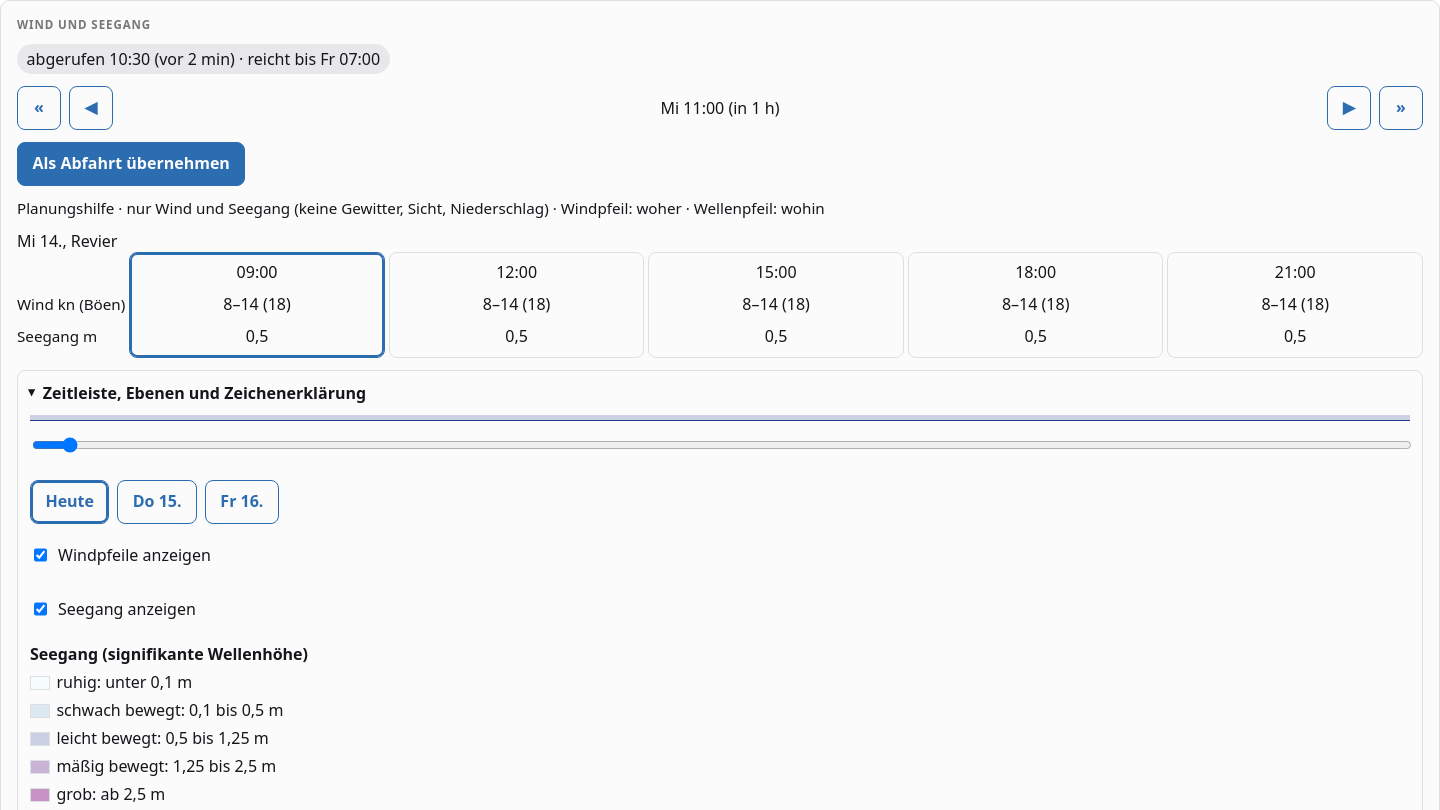
#1854 day strip, sea ribbon and area line › marks the window holding the hour; a column selects its first valid hour
Click the button "12:00 8–14 (18) 0,5". click: coordinates (517, 305)
box: [389,252,644,358]
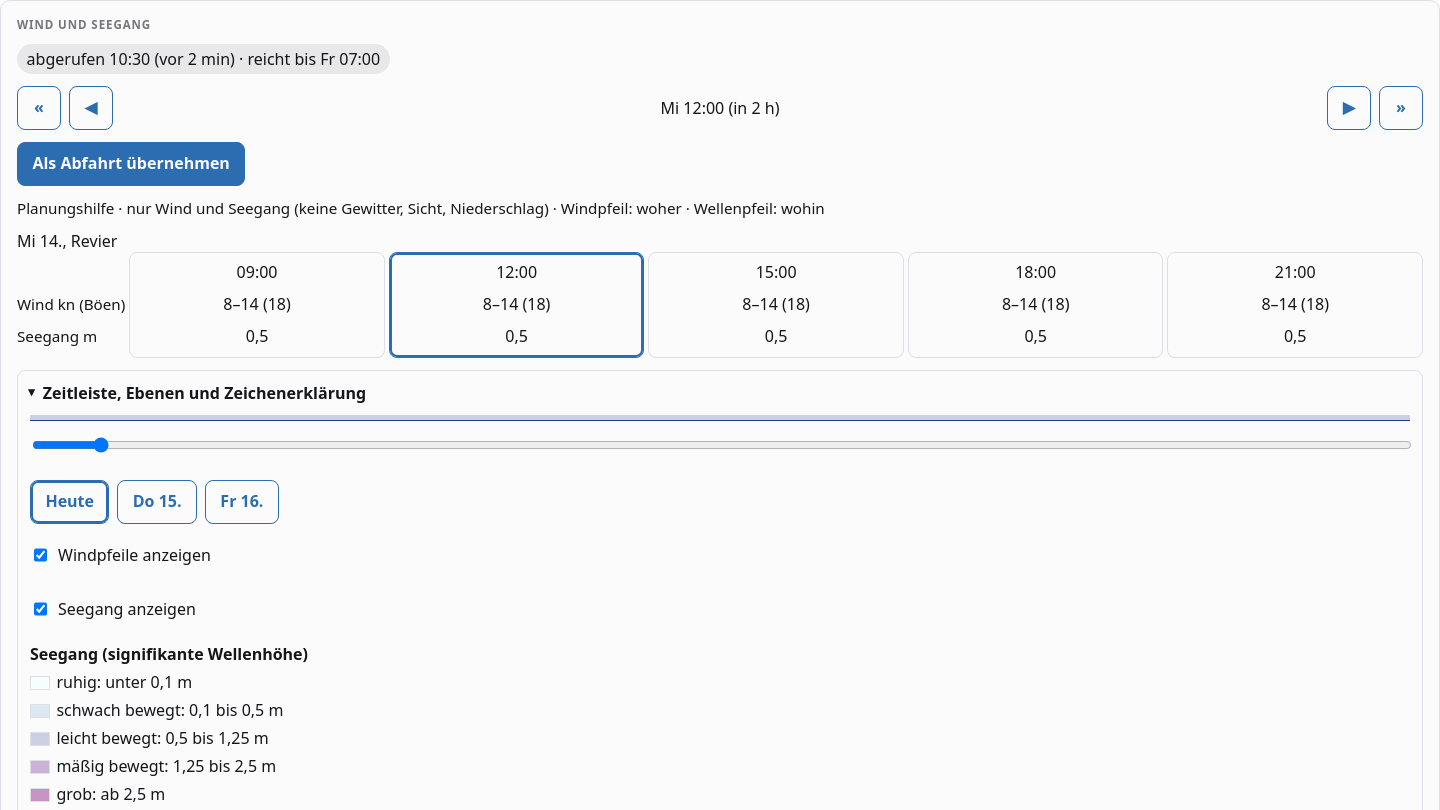
Result: the text with class "conditions-hour-value" shows "(in 2 h)" at [733,97,775,119]
Click the button "09:00 8–14 (18) 0,5". click: coordinates (257, 305)
box: [129,252,385,358]
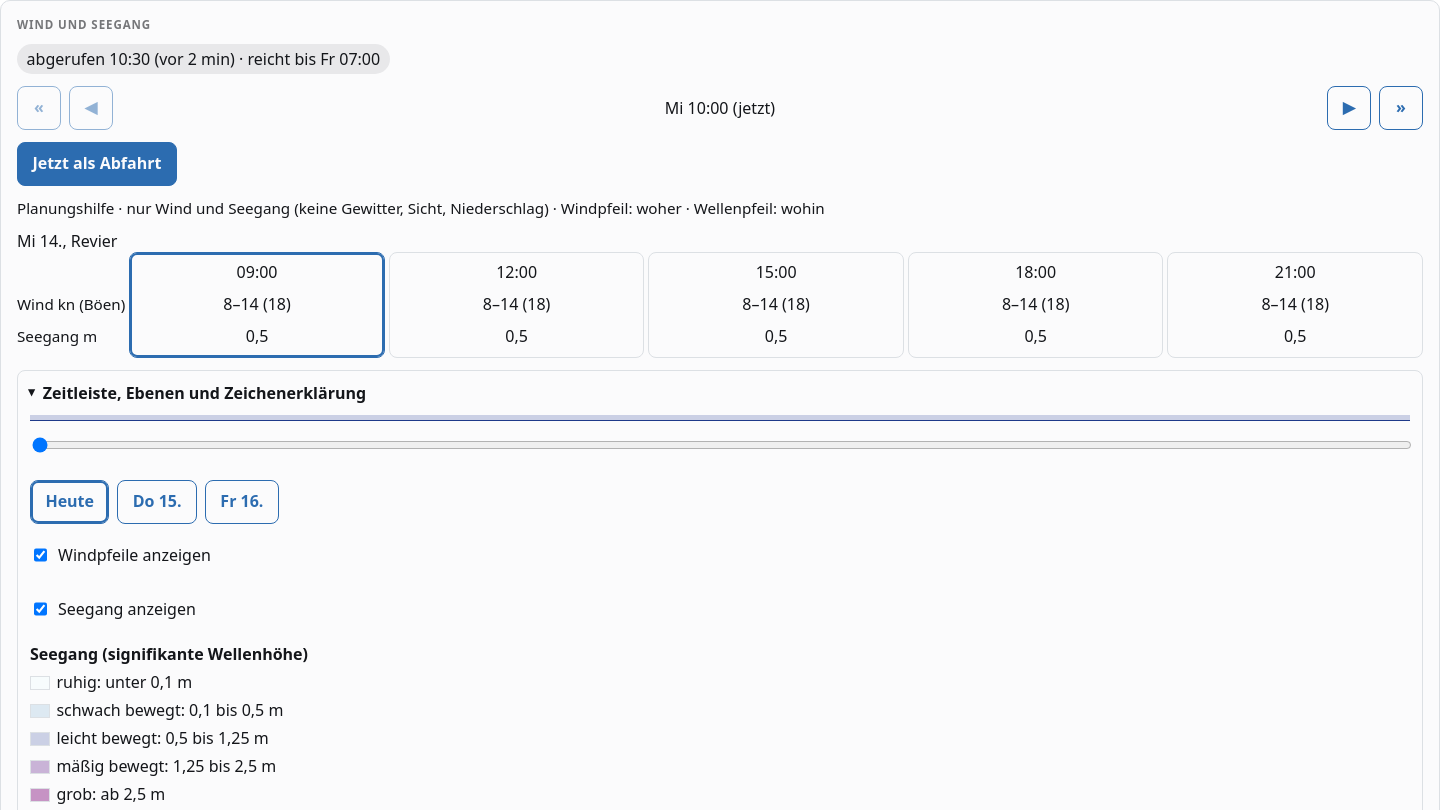
Result: the text with class "conditions-hour-value" shows "(jetzt)" at [738,97,770,119]
